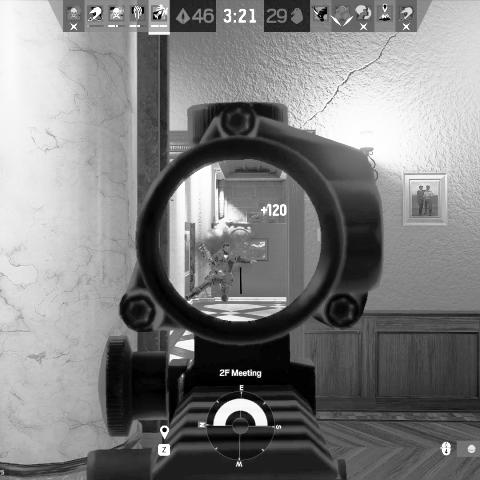Character: (185, 241, 259, 303)
Head: (221, 243, 232, 255)
